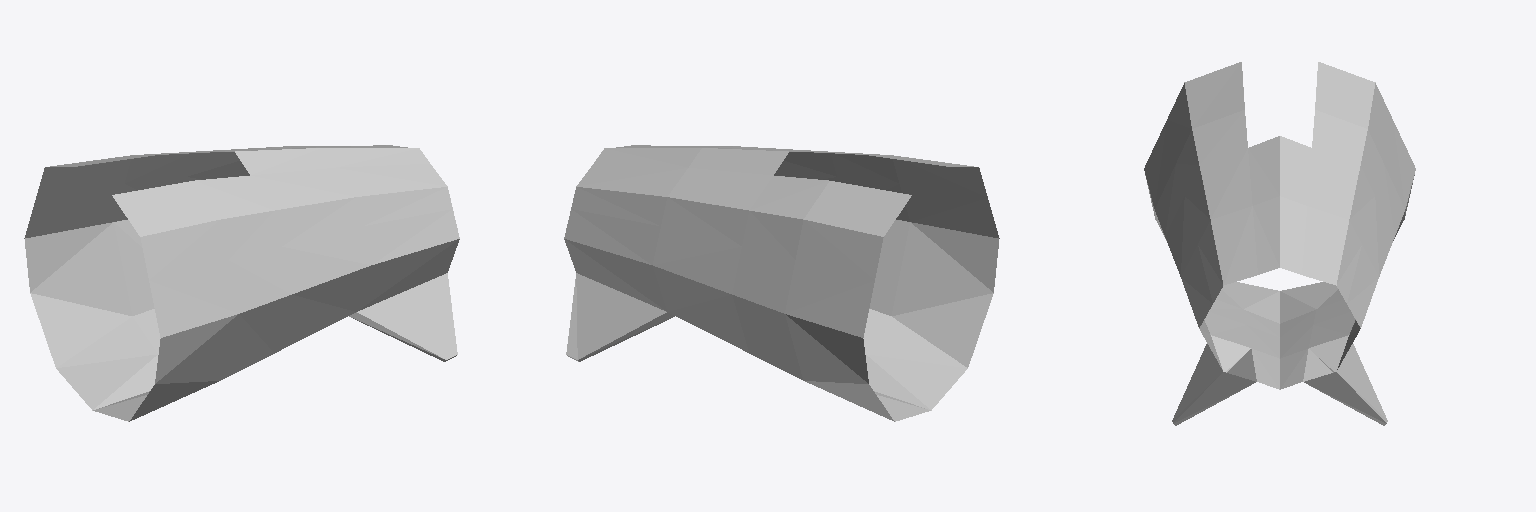
Rendered from Body_Mid.obj.
3 renders of one model, left to right at view 1: azimuth 30°, elevation 25°; view 2: azimuth 150°, elevation 25°; view 3: azimuth 270°, elevation 25°, orthographic.
Visible parts, largest first — view 1: polySurface2 pCylinder5; view 2: polySurface2 pCylinder5; view 3: polySurface2 pCylinder5.
Boxes of the visible parts, box(x1,y1,x2,y2) form: polySurface2 pCylinder5: box(24, 145, 459, 421); polySurface2 pCylinder5: box(564, 145, 999, 421); polySurface2 pCylinder5: box(1144, 62, 1415, 425).
Size of the model in its own units: 6.12 by 4.1 by 4.41.